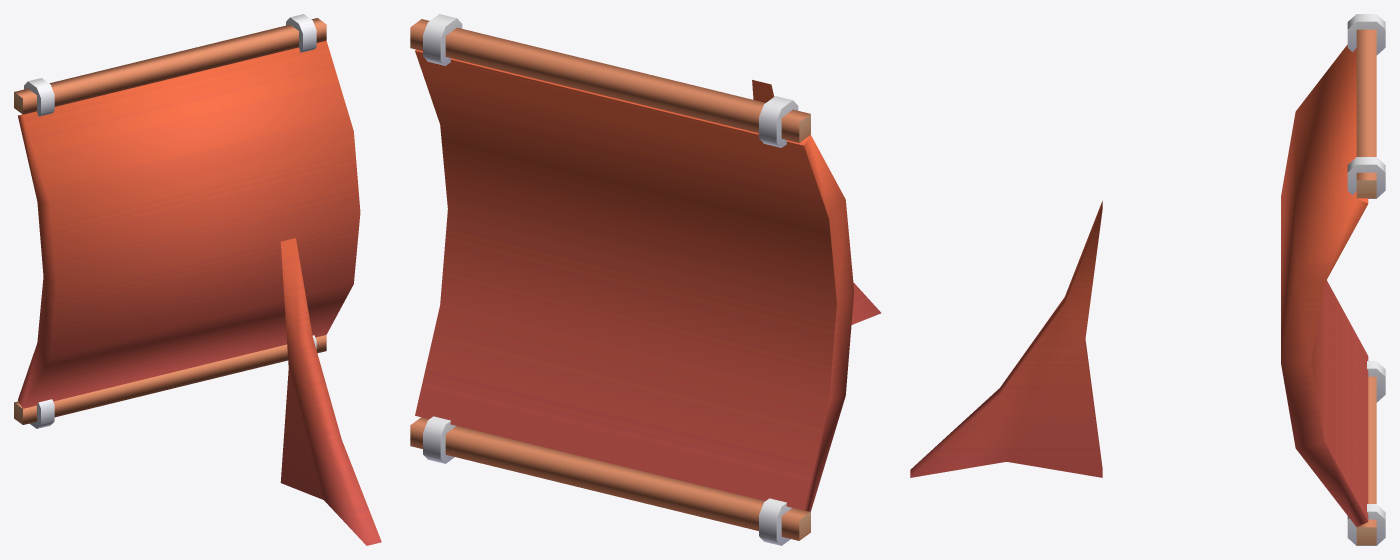
Rendered from sail_red.glb.
The picture shows the model from 3 angles, left to right: view 1: azimuth 30°, elevation 25°; view 2: azimuth 150°, elevation 25°; view 3: azimuth 270°, elevation 25°; orthographic projection. The views are drawn at different scales.
Parts seen in each view (by area): view 1: sail-a_red; view 2: sail-a_red; view 3: sail-a_red.
Boxes of the visible parts, x1,y1,x2,y2 form: sail-a_red: (14, 14, 381, 545); sail-a_red: (410, 14, 881, 545); sail-a_red: (910, 14, 1385, 545).
Size of the model in its own units: 4.4 by 4.76 by 5.33.
Materials: 1 (1 with a texture image).
